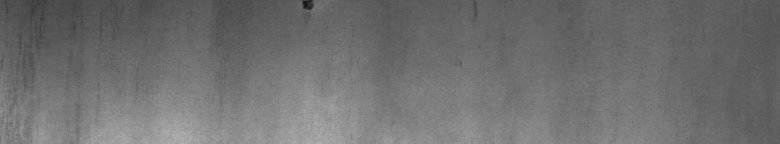fi: (296, 4, 321, 20)
